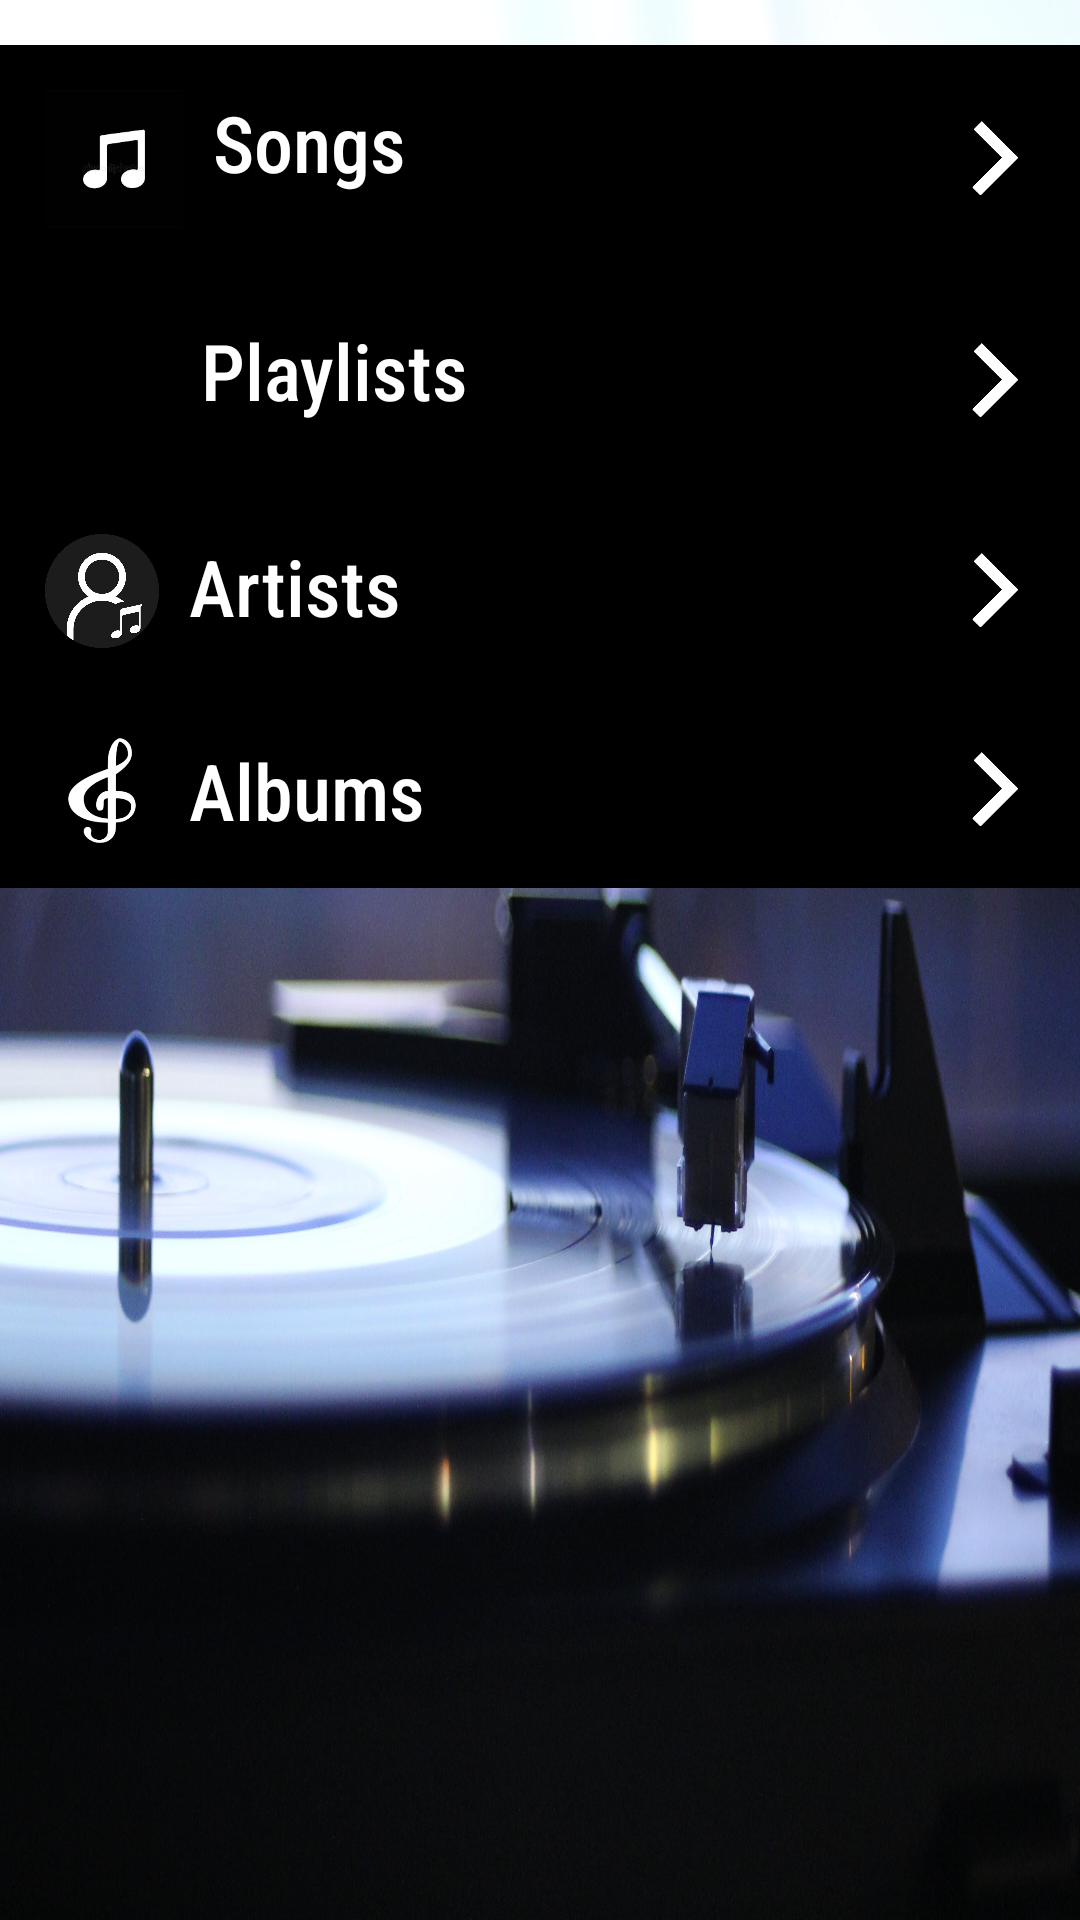

Where icons sit on this 1080x1920 app screen, as (x1, y1, x2, y2):
next: (972, 121, 1018, 195), (972, 343, 1018, 417), (972, 553, 1018, 627), (972, 752, 1018, 826)
